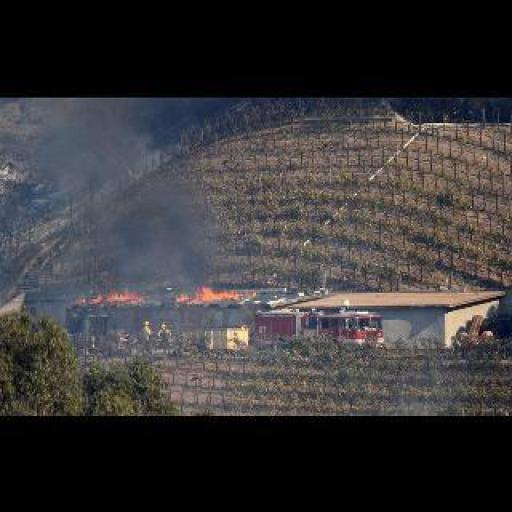smoke: (32, 106, 222, 288), (82, 275, 148, 307), (174, 283, 244, 307)
